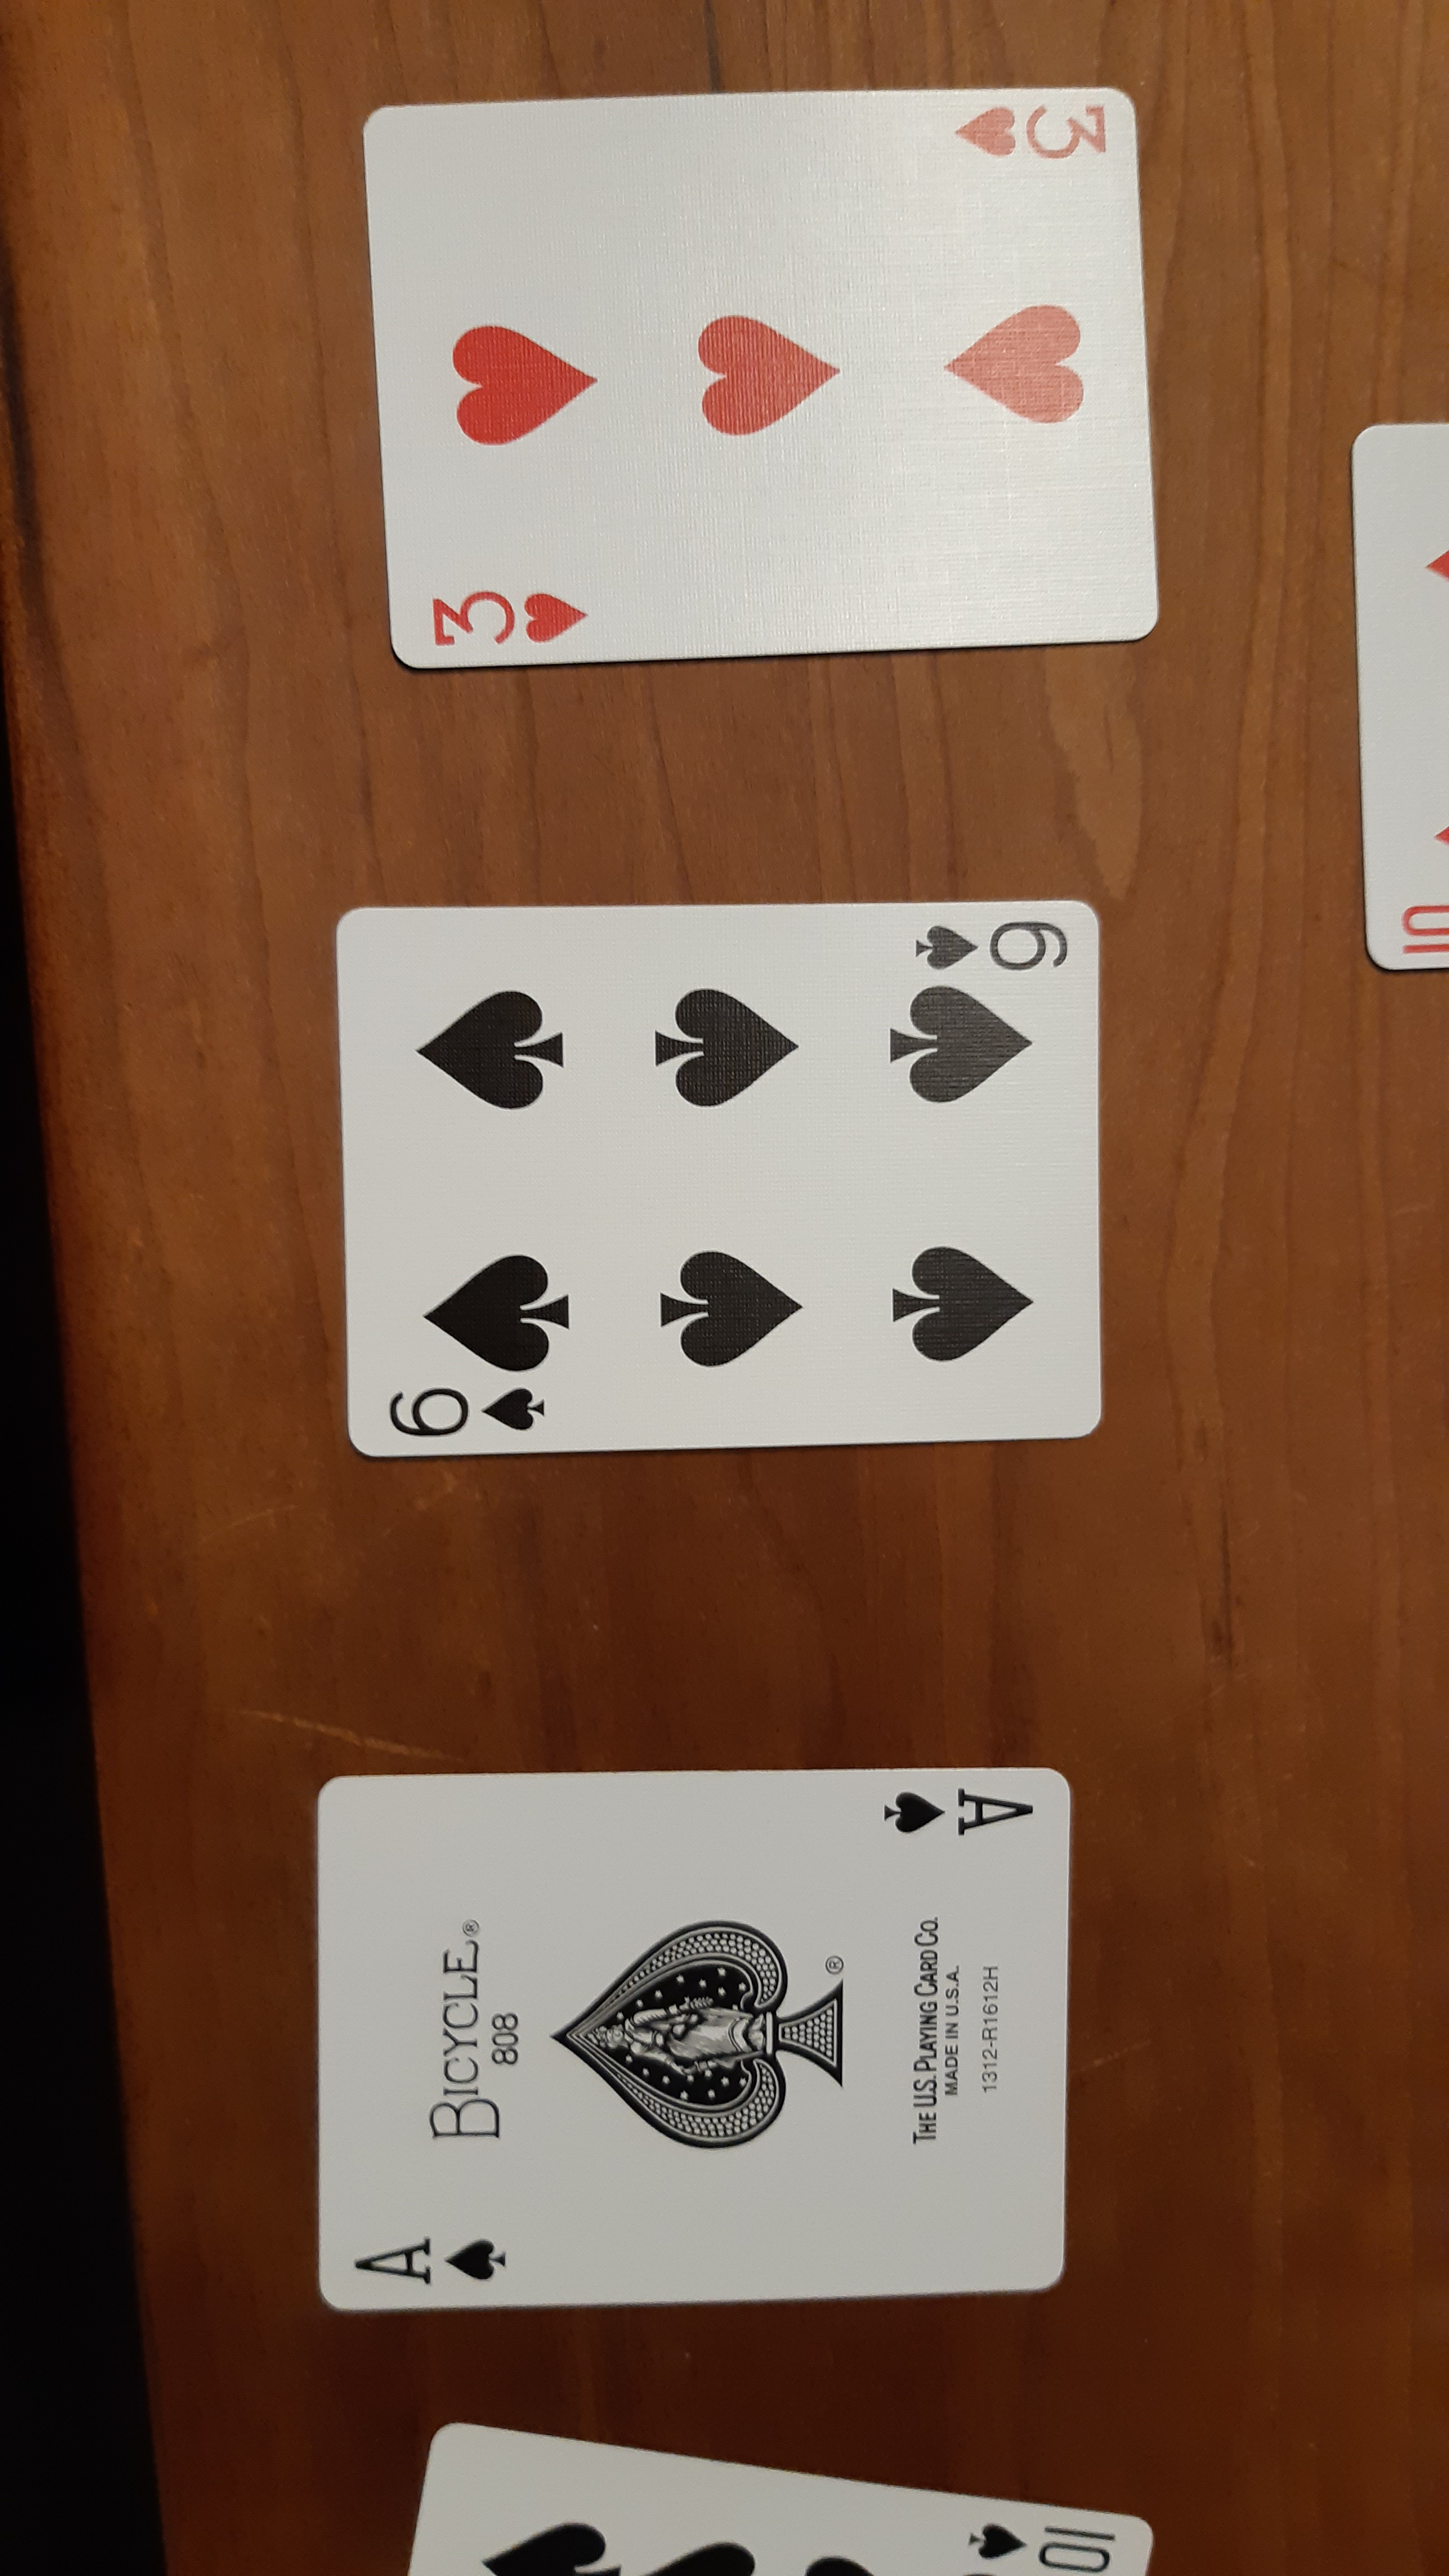Black_Spade_10: (950, 2500, 1138, 2576)
Black_Spade_6: (372, 908, 1081, 1442)
Black_Spade_Ace: (349, 2194, 518, 2300), (878, 1776, 1047, 1851)
Red_Heart_3: (409, 573, 594, 662), (941, 90, 1131, 177)
